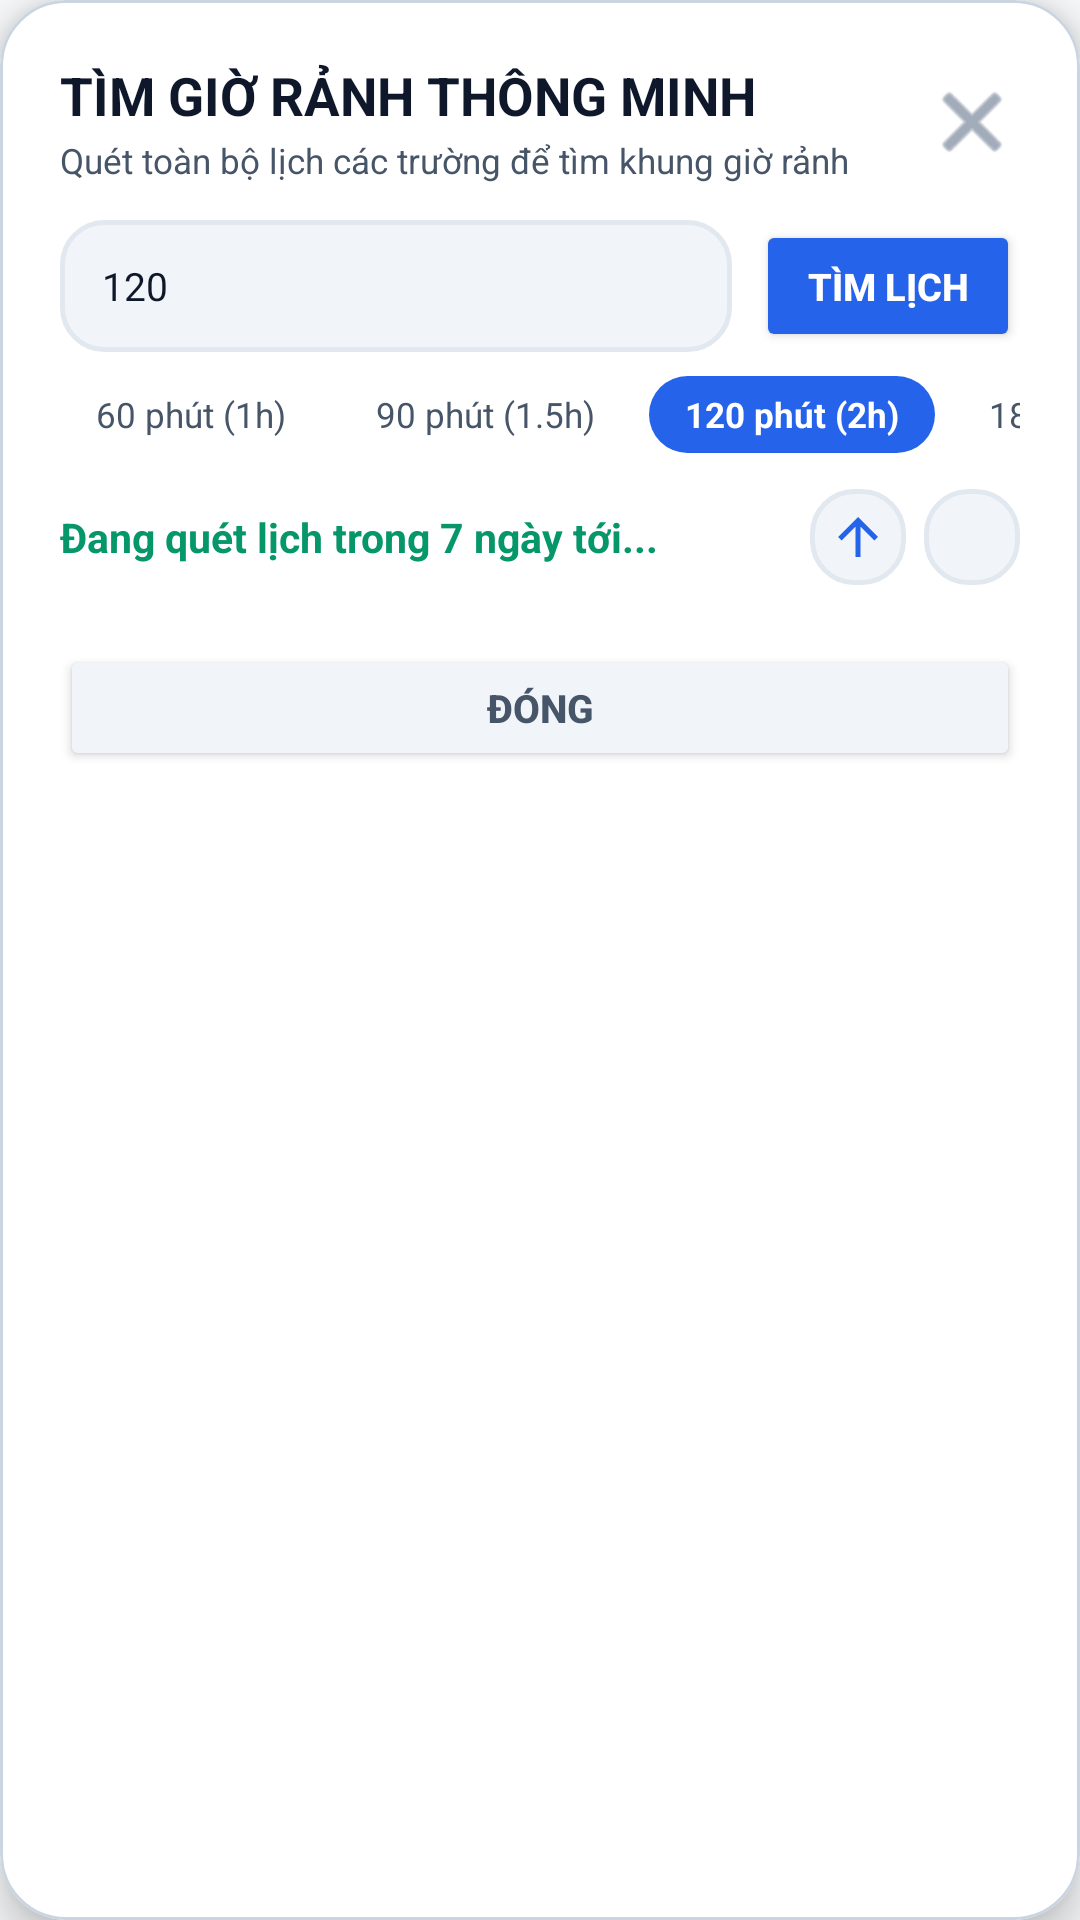

Where icons sit on this 1080×1920 app screen, as (x1, y1, x2, y2):
Lên đầu: (810, 489, 906, 585)
Đóng: (942, 92, 1002, 152)
